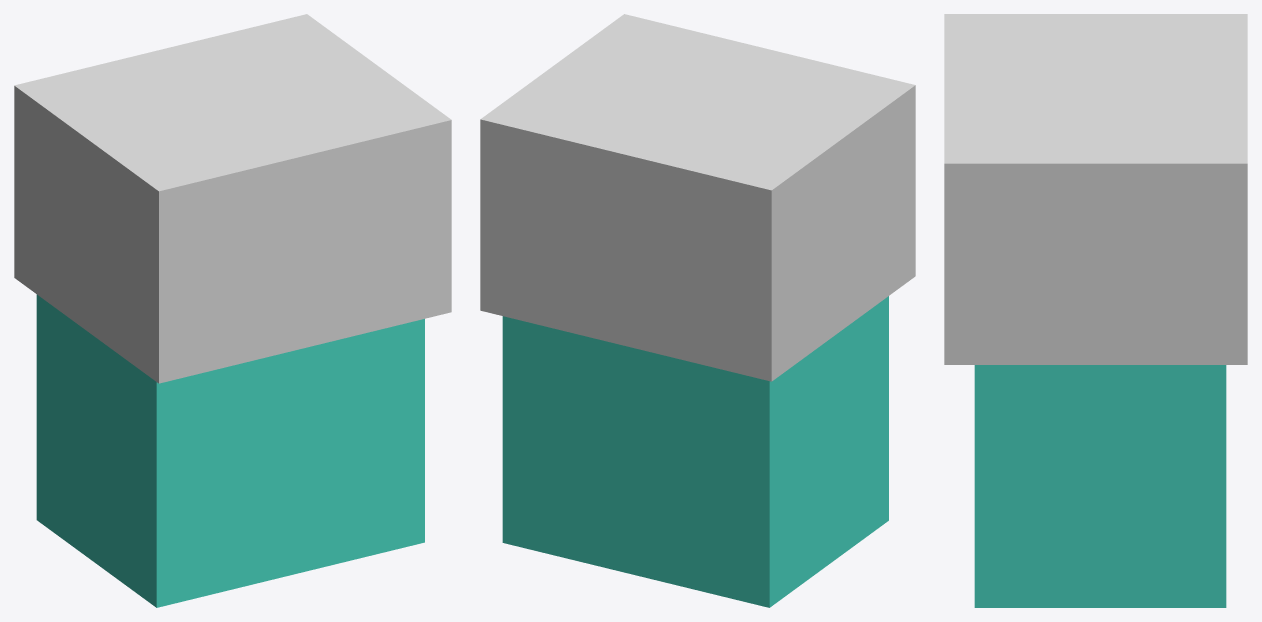
The model's file is char4.fbx.
The picture shows the model from 3 angles, left to right: view 1: azimuth 30°, elevation 25°; view 2: azimuth 150°, elevation 25°; view 3: azimuth 270°, elevation 25°; orthographic projection. The views are drawn at different scales.
Visible parts, largest first — view 1: pCube66; view 2: pCube66; view 3: pCube66.
Part boxes in pixels (x1=…): pCube66: x1=14, y1=14, x2=451, y2=607; pCube66: x1=480, y1=14, x2=915, y2=607; pCube66: x1=944, y1=14, x2=1247, y2=607.
Size of the model in its own units: 2.09 by 2.94 by 1.79.
